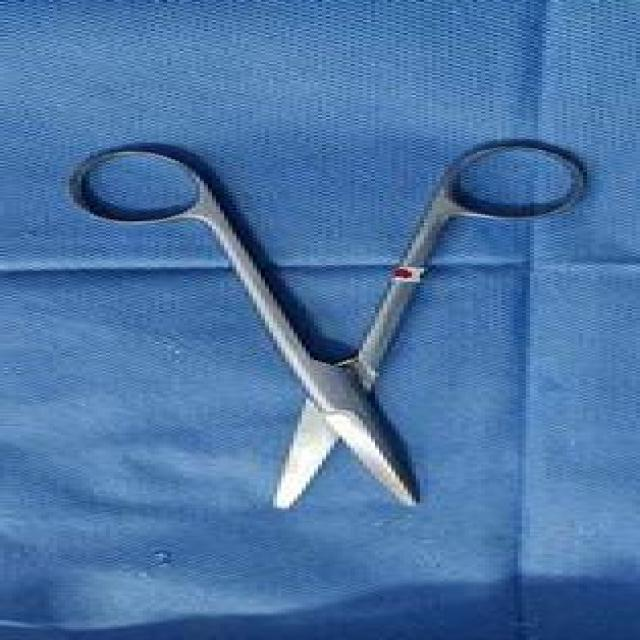Mayo_metz: (57, 134, 595, 516)
